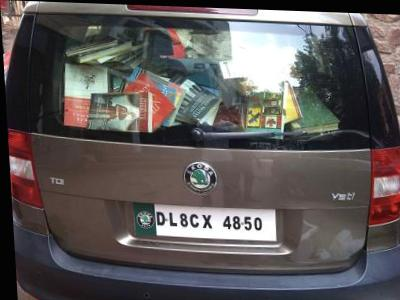License_Plate: (133, 201, 275, 241)
